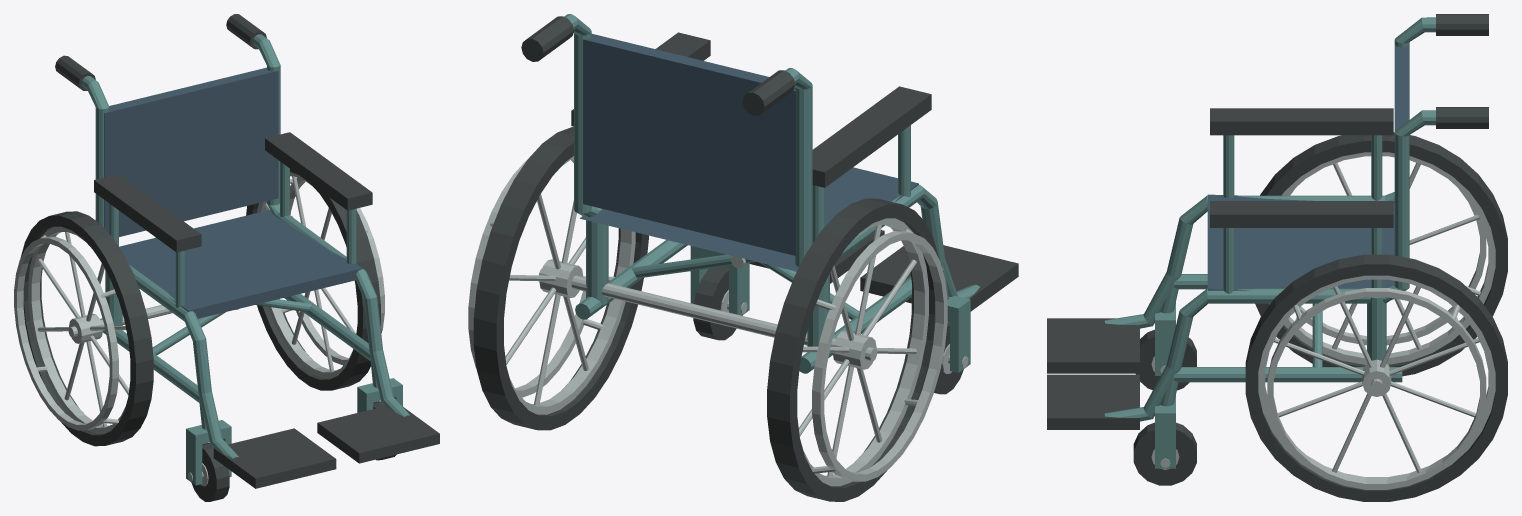
The picture shows the model from 3 angles, left to right: view 1: azimuth 30°, elevation 25°; view 2: azimuth 150°, elevation 25°; view 3: azimuth 270°, elevation 25°; orthographic projection. The views are drawn at different scales.
Parts seen in each view (by area): view 1: WholeBackSling, WholeSeatSling, WholeRearAnnularTireL, WholeForwardFootPlateL, WholeForwardFootPlateR, WholeSeparateHandrimL, WholeBentSeatBackLegFrameL, WholeRearAnnularTireR, WholeBentSeatBackLegFrameR, WholeArmPadL, WholeArmPadR, WholeRearMetalRimL (+15 smaller); view 2: WholeBackSling, WholeRearAnnularTireL, WholeRearAnnularTireR, WholeSeparateHandrimL, WholeSeatSling, WholeBentSeatBackLegFrameL, WholeArmPadL, WholeRearMetalRimL, WholeForwardFootPlateL, WholeRearThroughAxle, WholeRearMetalRimR, WholeSeparateHandrimR (+18 smaller); view 3: WholeRearAnnularTireR, WholeSeatSling, WholeRearAnnularTireL, WholeBentSeatBackLegFrameR, WholeSeparateHandrimR, WholeArmPadL, WholeForwardFootPlateL, WholeForwardFootPlateR, WholeArmPadR, WholeBentSeatBackLegFrameL, WholeRearMetalRimL, WholeRearMetalRimR (+15 smaller).
Part boxes in pixels (left/top/right/bottom): WholeBackSling: left=104, top=67, right=278, bottom=236; WholeSeatSling: left=119, top=210, right=362, bottom=318; WholeRearAnnularTireL: left=20, top=211, right=153, bottom=446; WholeForwardFootPlateL: left=213, top=428, right=336, bottom=488; WholeForwardFootPlateR: left=317, top=406, right=439, bottom=463; WholeSeparateHandrimL: left=14, top=236, right=118, bottom=430; WholeBentSeatBackLegFrameL: left=81, top=76, right=238, bottom=458; WholeRearAnnularTireR: left=246, top=169, right=380, bottom=390; WholeBentSeatBackLegFrameR: left=252, top=34, right=409, bottom=416; WholeArmPadL: left=94, top=174, right=201, bottom=252; WholeArmPadR: left=265, top=132, right=372, bottom=210; WholeRearMetalRimL: left=28, top=226, right=125, bottom=434; WholeBackSling: left=583, top=34, right=795, bottom=255; WholeRearAnnularTireL: left=767, top=198, right=938, bottom=501; WholeRearAnnularTireR: left=473, top=127, right=648, bottom=430; WholeSeparateHandrimL: left=812, top=231, right=947, bottom=481; WholeSeatSling: left=580, top=167, right=918, bottom=271; WholeBentSeatBackLegFrameL: left=785, top=68, right=979, bottom=298; WholeArmPadL: left=812, top=86, right=931, bottom=187; WholeRearMetalRimL: left=803, top=218, right=928, bottom=486; WholeForwardFootPlateL: left=860, top=245, right=1018, bottom=311; WholeRearThroughAxle: left=539, top=268, right=877, bottom=361; WholeRearMetalRimR: left=510, top=156, right=635, bottom=414; WholeSeparateHandrimR: left=468, top=158, right=585, bottom=397; WholeRearAnnularTireR: left=1245, top=254, right=1507, bottom=501; WholeSeatSling: left=1207, top=194, right=1394, bottom=299; WholeRearAnnularTireL: left=1255, top=132, right=1507, bottom=376; WholeBentSeatBackLegFrameR: left=1104, top=110, right=1435, bottom=421; WholeSeparateHandrimR: left=1267, top=288, right=1486, bottom=489; WholeArmPadL: left=1210, top=108, right=1393, bottom=135; WholeForwardFootPlateL: left=1047, top=318, right=1139, bottom=373; WholeForwardFootPlateR: left=1047, top=374, right=1139, bottom=429; WholeArmPadR: left=1210, top=201, right=1393, bottom=227; WholeBentSeatBackLegFrameL: left=1104, top=17, right=1435, bottom=328; WholeRearMetalRimL: left=1270, top=152, right=1495, bottom=364; WholeRearMetalRimR: left=1258, top=275, right=1495, bottom=480.
Size of the model in its own units: 0.828 by 0.976 by 1.09.
